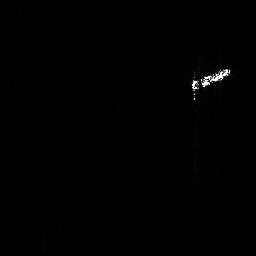ship: (188, 65, 234, 101)
